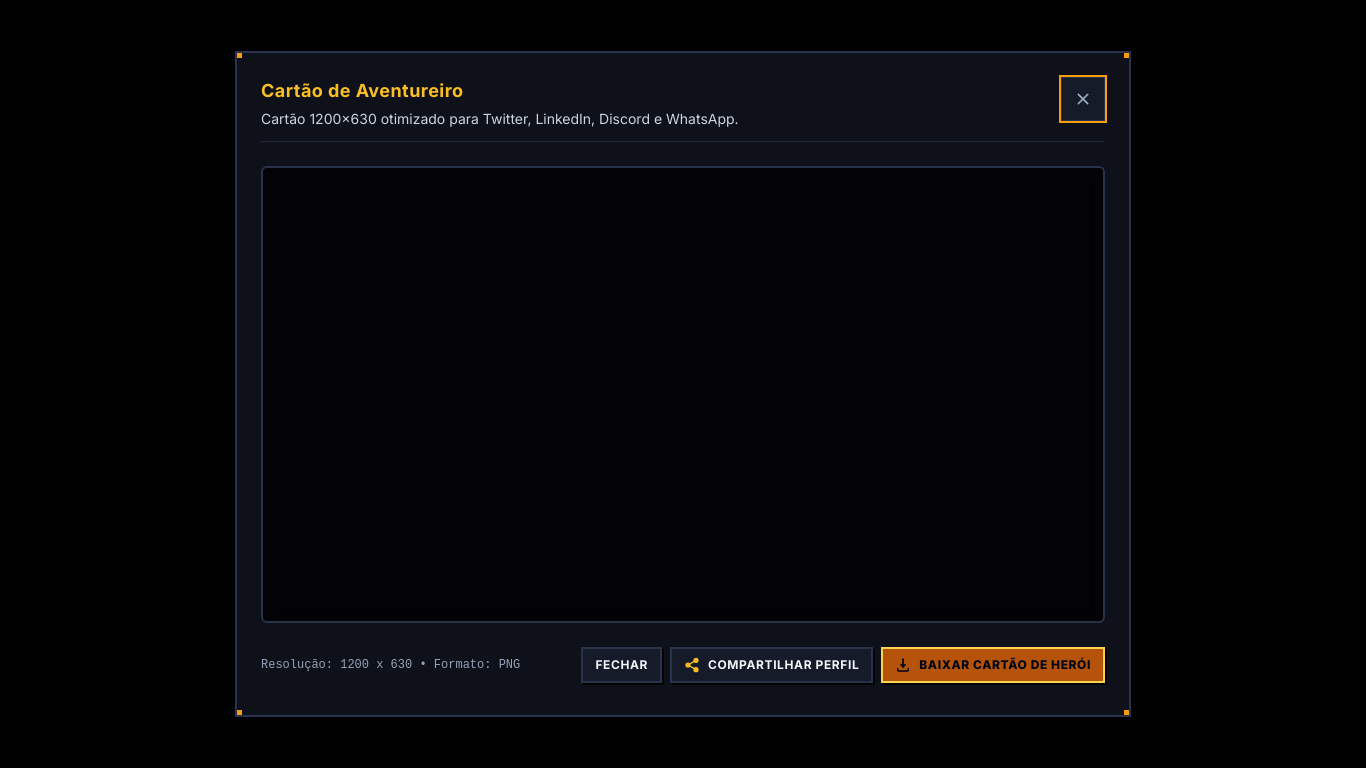
Test case: ShareCardModal: share profile › copies the profile URL and says so when the Web Share API is not available
Click the button "Compartilhar perfil". click: (772, 665)
box: [670, 647, 873, 683]
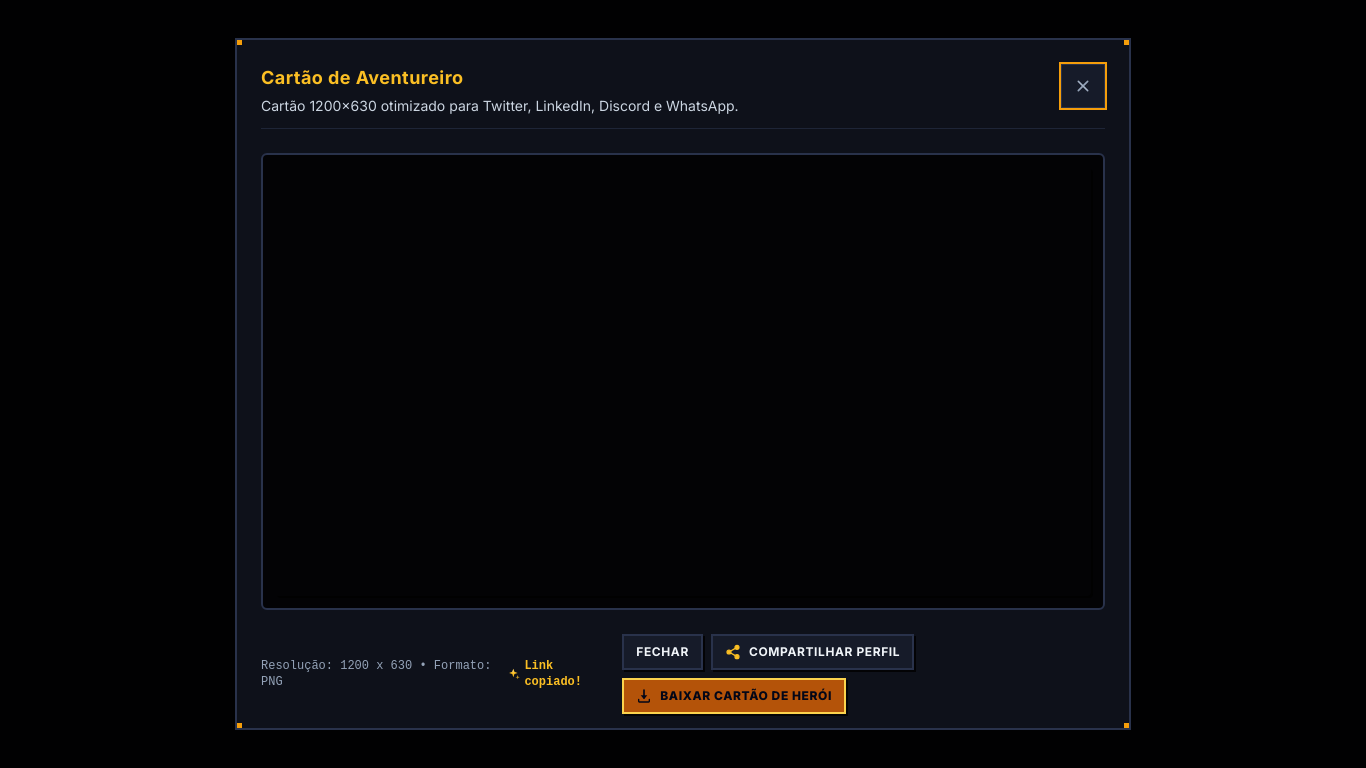
Expected: the text "Link copiado!" is shown, [508, 659, 582, 689]
